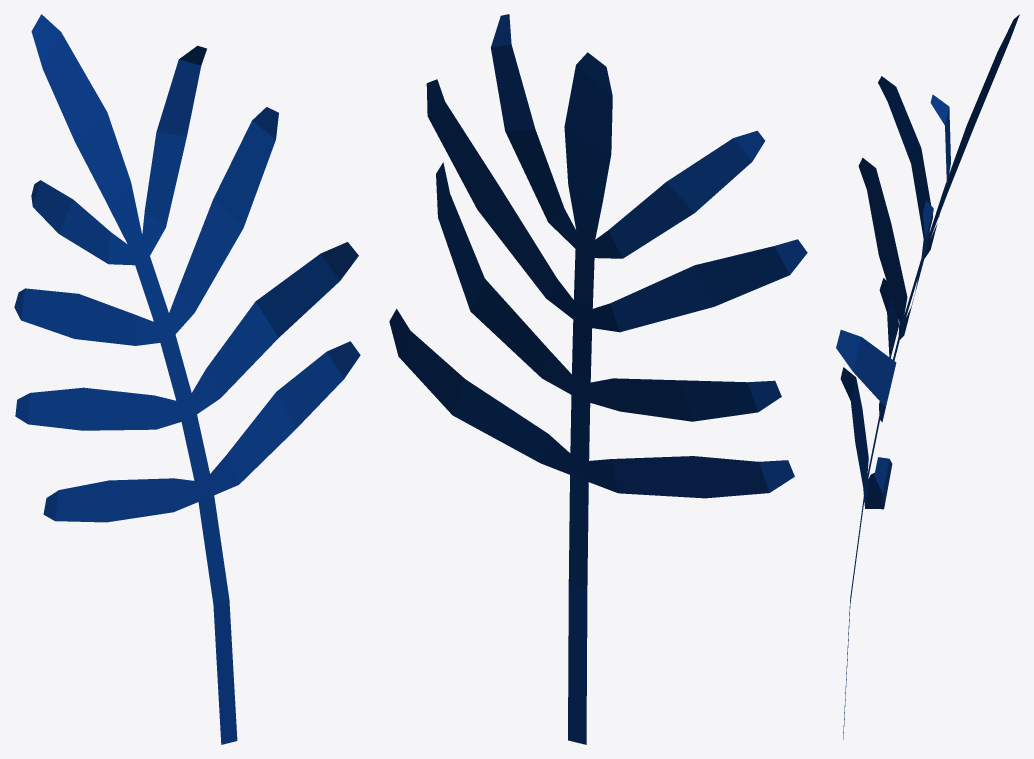
The model's file is fern_2.FBX.
The picture shows the model from 3 angles, left to right: view 1: azimuth 30°, elevation 25°; view 2: azimuth 150°, elevation 25°; view 3: azimuth 270°, elevation 25°; orthographic projection. The views are drawn at different scales.
Visible parts, largest first — view 1: fern_v1; view 2: fern_v1; view 3: fern_v1.
Boxes of the visible parts, bbox=[...] form: fern_v1: bbox=[14, 14, 360, 744]; fern_v1: bbox=[389, 14, 807, 744]; fern_v1: bbox=[836, 14, 1019, 739].
Bounding box in the file's own units: 1805 × 821 × 3347.
